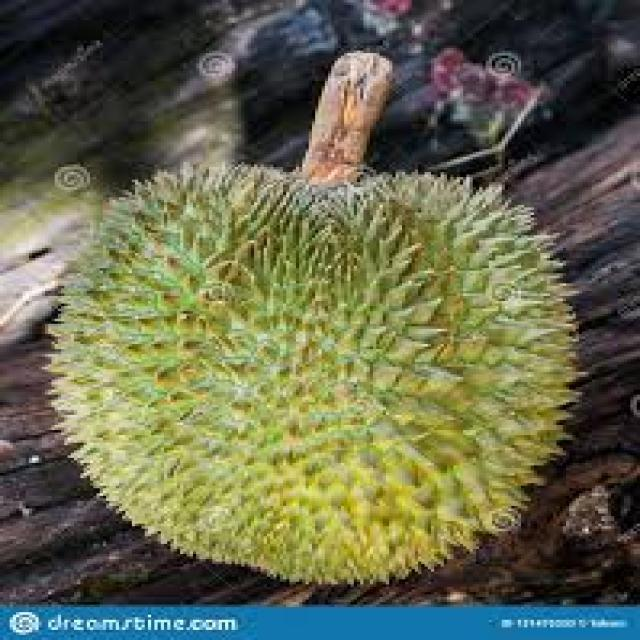immature: (39, 157, 583, 586)
